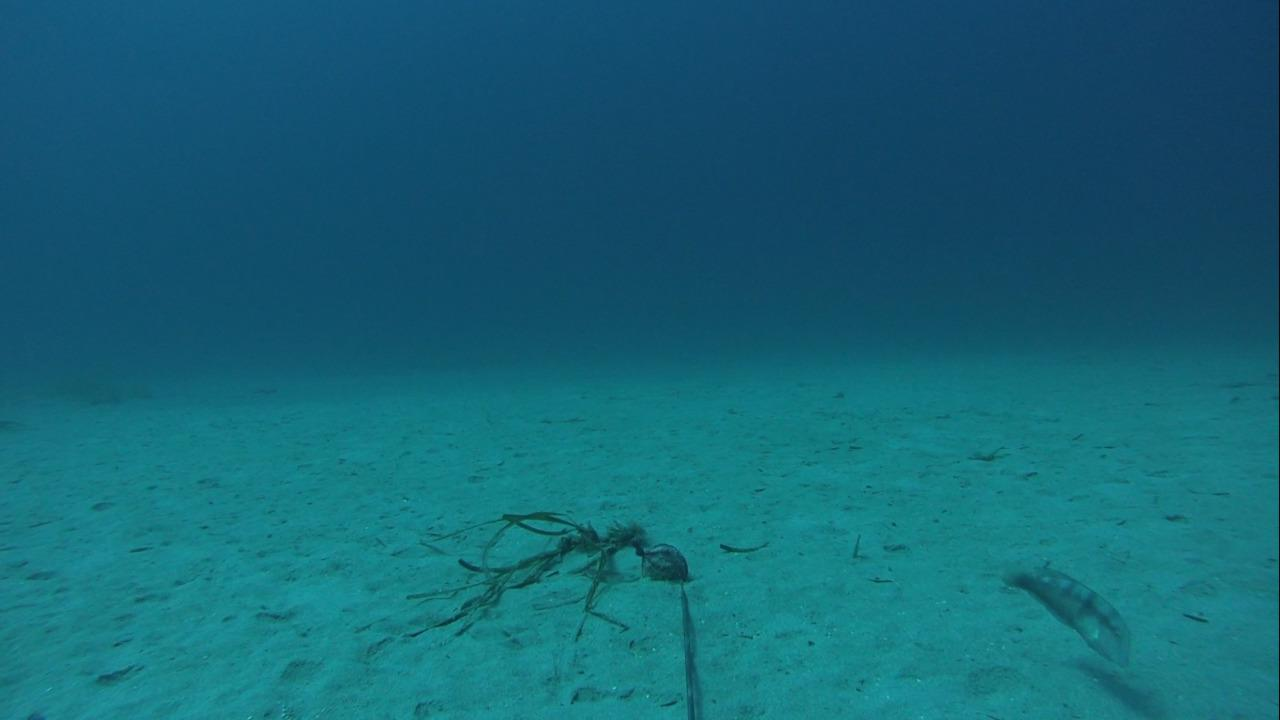raor: (999, 556, 1136, 671)
